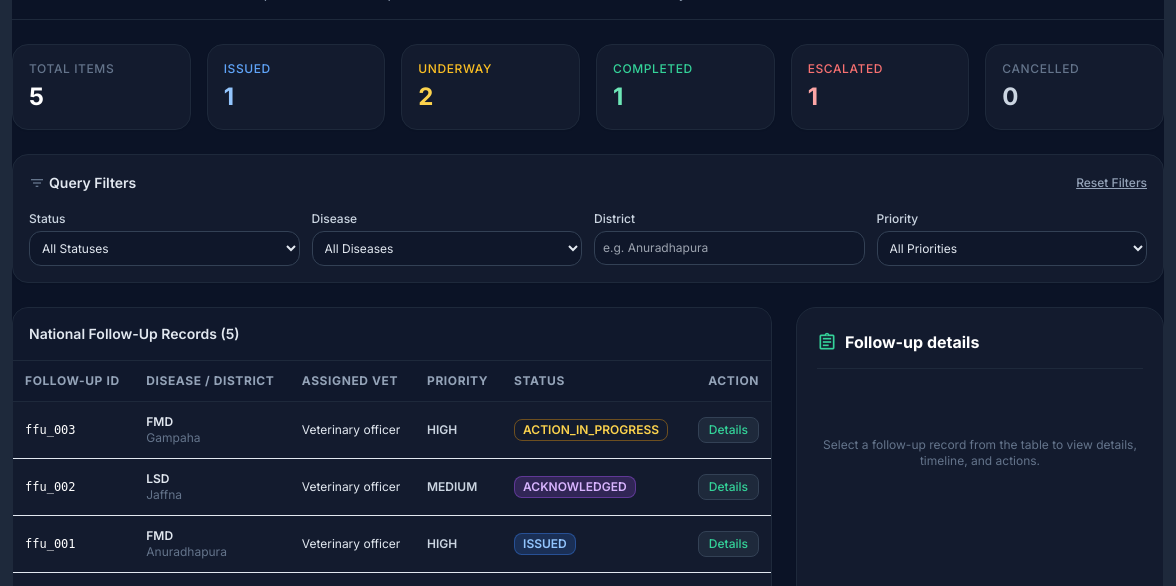
Scenario: DaphFollowUpMonitoring Component › Workspace Layout & Summary Statistics › opens record detail drawer and displays immutable forecast snapshot and timeline
expect the text "ffu_001" is shown: met, box [13,516,134,572]
Click the button "Details" in the row of "ffu_001": click(728, 544) [698,531,759,557]
(page scrolled)
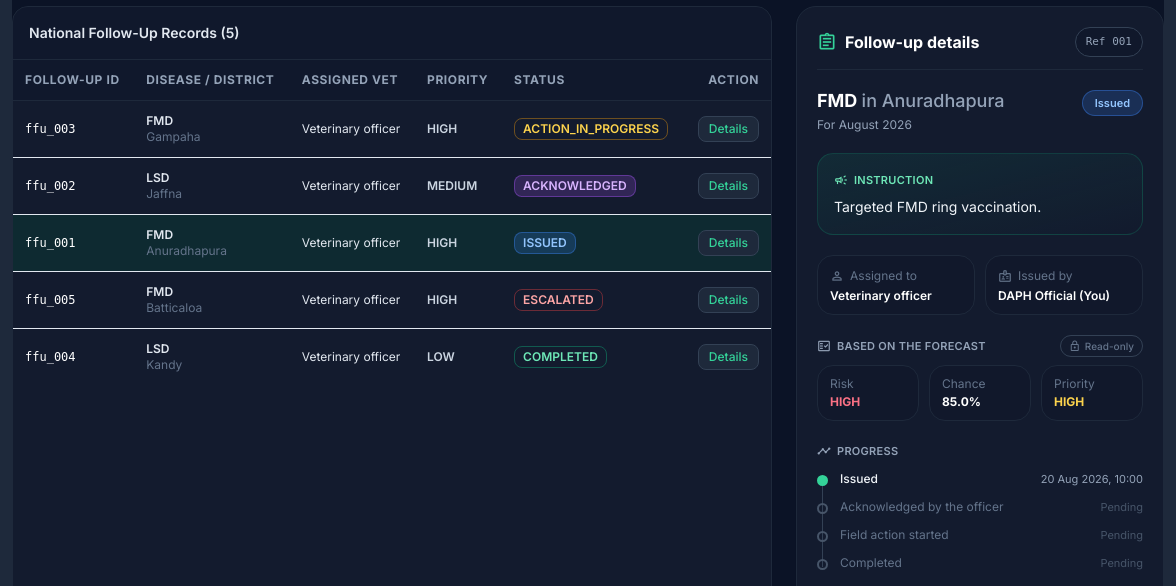
expect the heading "Based on the forecast Read-only" is shown: met, box [817,335,1143,357]
expect the heading "Progress" is shown: met, box [817,443,898,459]
expect the text "Targeted FMD ring vaccination." is shown: met, box [834,198,1041,214]
